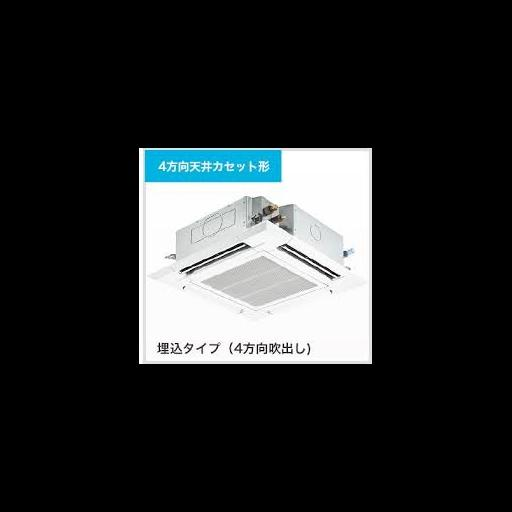4-way-ac: (148, 221, 354, 320)
